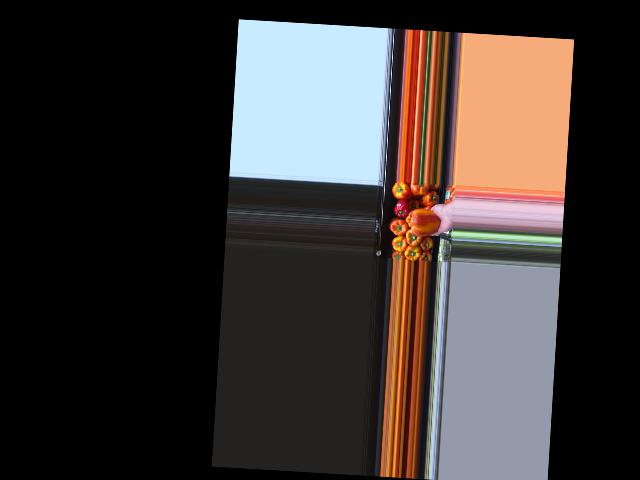bell_pepper: (421, 188, 436, 208)
